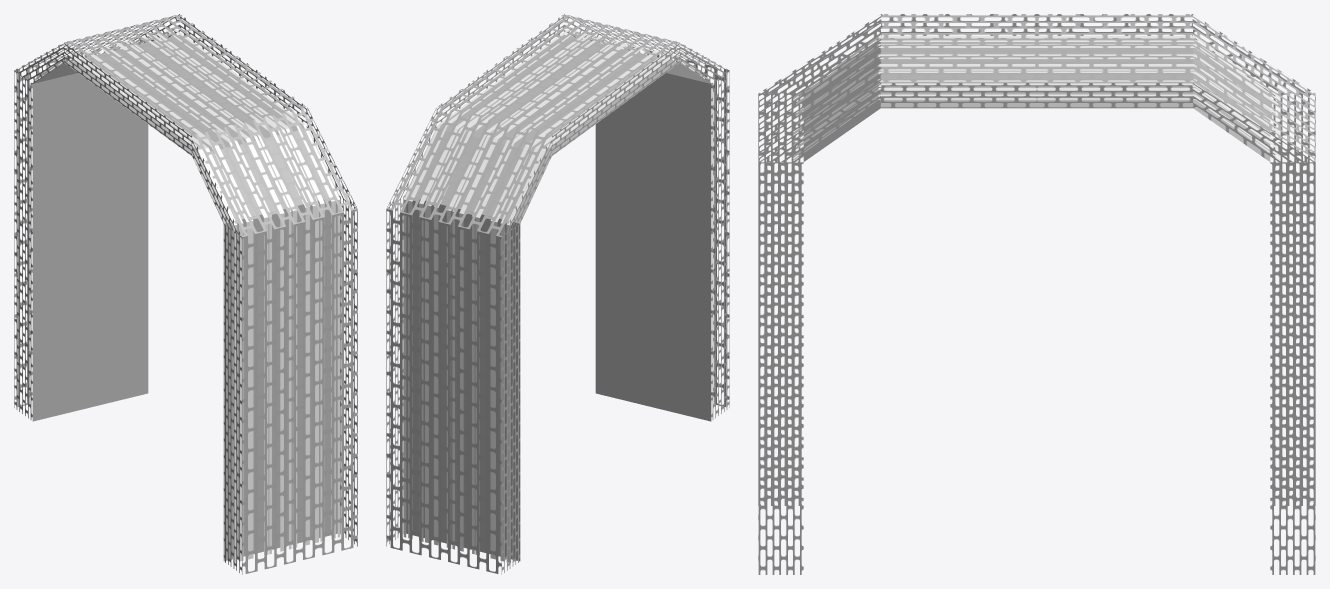
The model's file is cabletraybow.glb.
The picture shows the model from 3 angles, left to right: view 1: azimuth 30°, elevation 25°; view 2: azimuth 150°, elevation 25°; view 3: azimuth 270°, elevation 25°; orthographic projection. The views are drawn at different scales.
Parts seen in each view (by area): view 1: CableTrayBow; view 2: CableTrayBow; view 3: CableTrayBow.
Part boxes in pixels (x1,y1,x2,y2): CableTrayBow: (14,14,357,574); CableTrayBow: (386,14,729,574); CableTrayBow: (758,14,1315,574).
Size of the model in its own units: 0.9309 by 3.1 by 3.18.
Materials: 3 (2 with a texture image).
